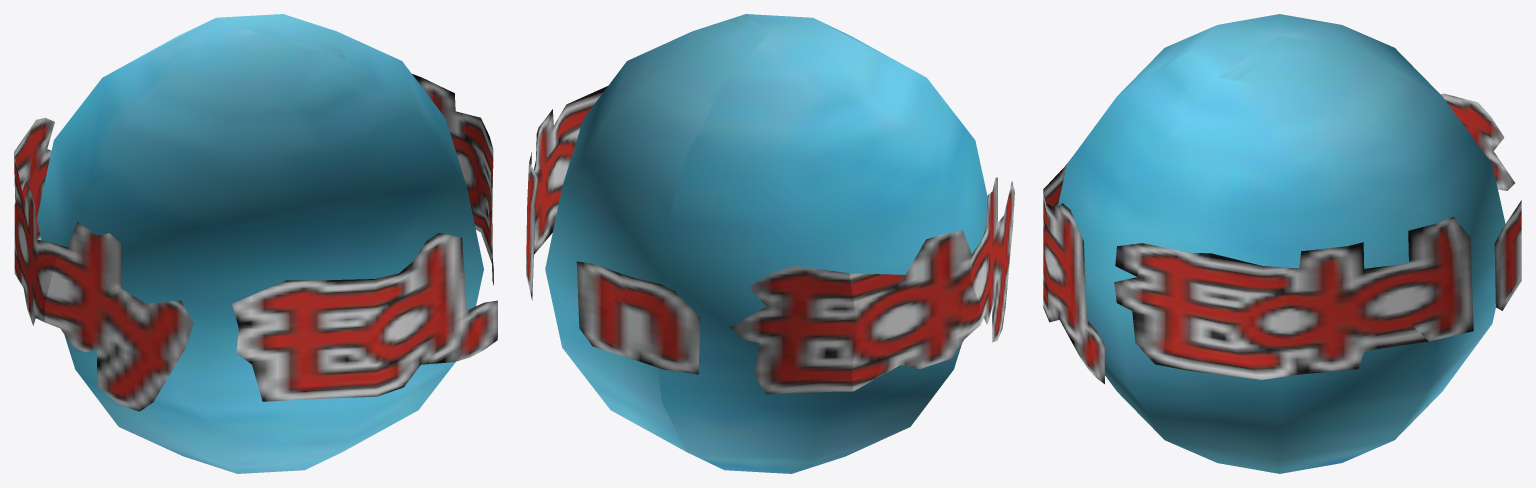
Rendered from static.ico.obj.
3 views of the same model, side by side, from view 1: azimuth 30°, elevation 25°; view 2: azimuth 150°, elevation 25°; view 3: azimuth 270°, elevation 25° (orthographic).
Bounding box in the file's own units: 3.79 × 3.58 × 3.72.
1 material, 1 textured.
